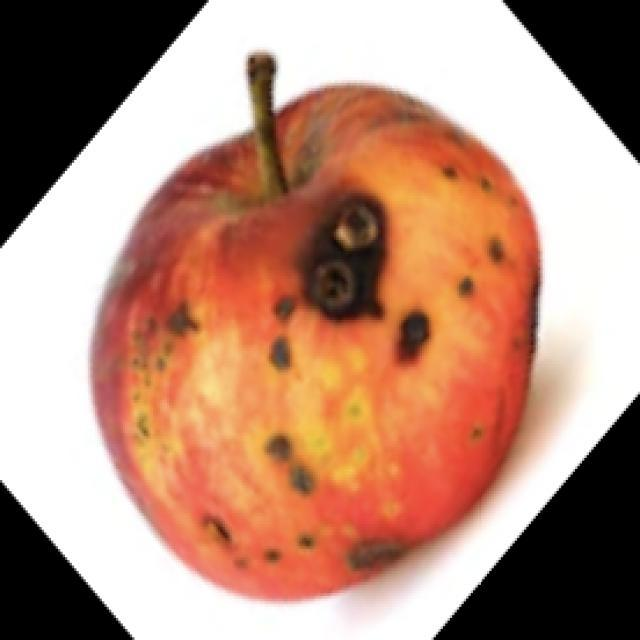Rotten: (90, 85, 597, 625)
